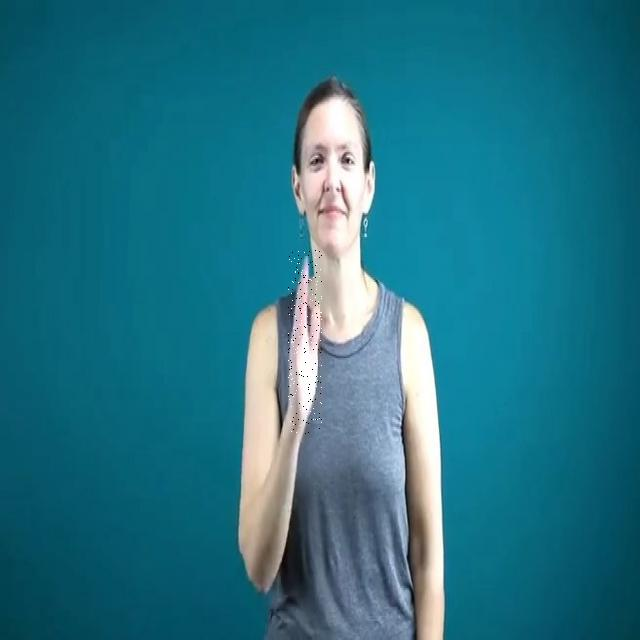napkin: (288, 250, 322, 434)
